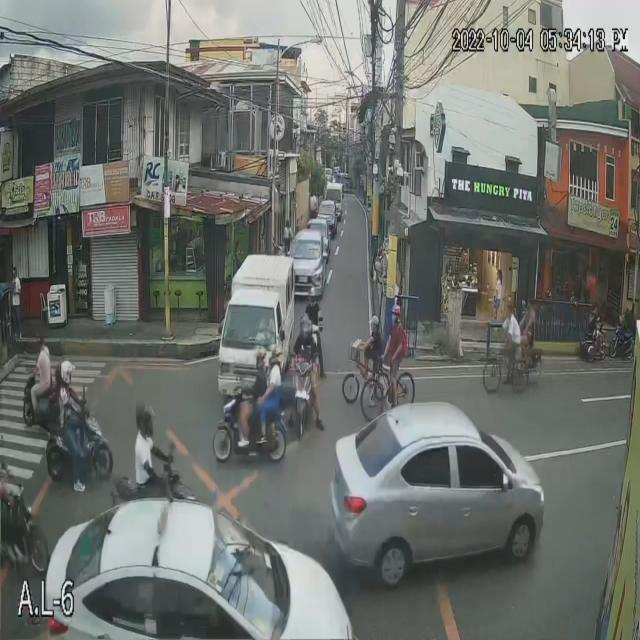full: (134, 402, 156, 437), (269, 344, 283, 365)
half: (253, 348, 265, 371), (61, 361, 71, 382)
